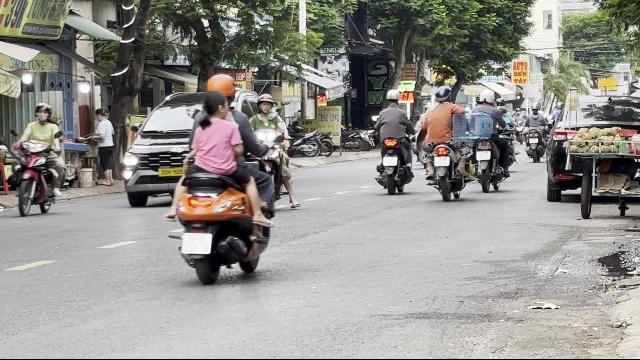helmet: (204, 74, 236, 99), (256, 93, 274, 114), (33, 102, 51, 122), (434, 85, 452, 103), (384, 89, 400, 105)
licenseplate: (181, 233, 211, 253), (382, 156, 398, 166), (434, 158, 450, 166)
motorcyclist: (163, 72, 277, 284), (4, 102, 64, 216), (418, 84, 470, 200), (372, 89, 416, 194)
nohelmet: (200, 89, 228, 118)
